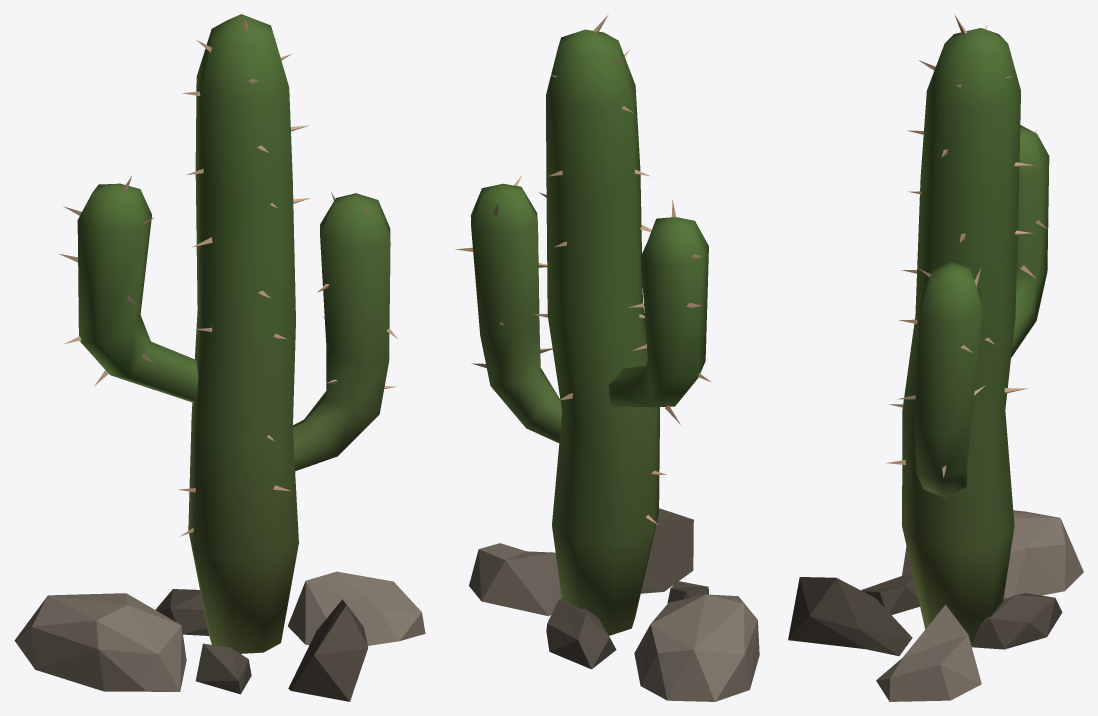
Rendered from cactus_1.glb.
3 views of the same model, side by side, from view 1: azimuth 30°, elevation 25°; view 2: azimuth 150°, elevation 25°; view 3: azimuth 270°, elevation 25° (orthographic). The views are drawn at different scales.
Parts seen in each view (by area): view 1: Cactus 1; view 2: Cactus 1; view 3: Cactus 1.
Boxes of the visible parts, box(x1,y1,x2,y2) form: Cactus 1: box(14, 14, 425, 701); Cactus 1: box(455, 14, 759, 701); Cactus 1: box(788, 14, 1083, 701).
Bounding box in the file's own units: 2.3 × 4.24 × 1.83.
1 material, 1 textured.
